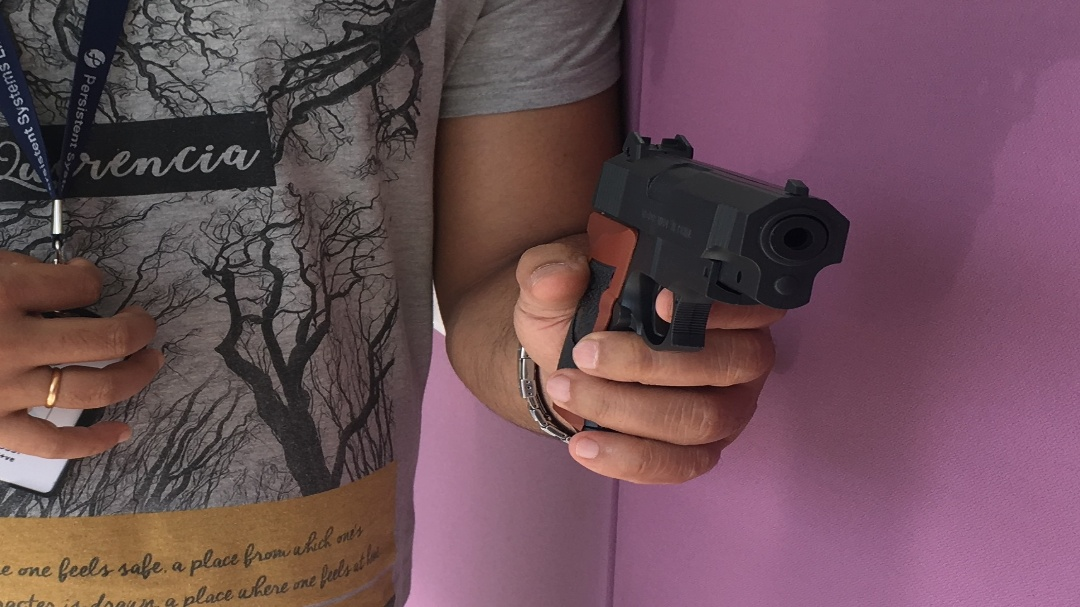gun: (582, 129, 851, 357)
